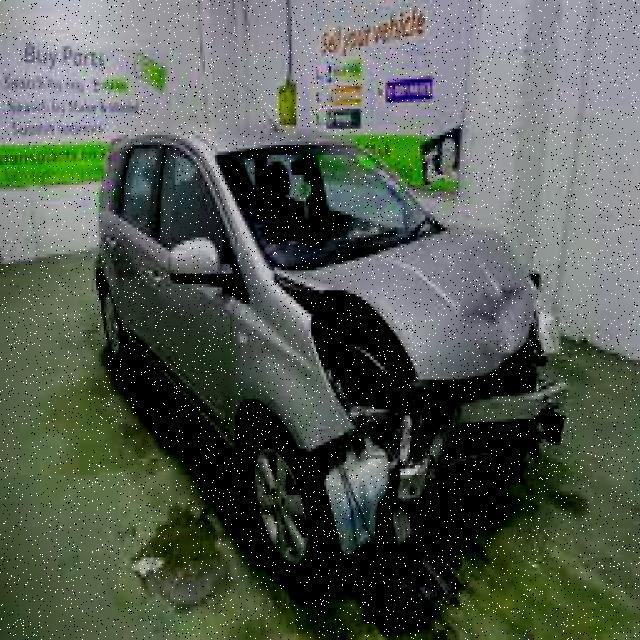car damage: (282, 227, 569, 553)
